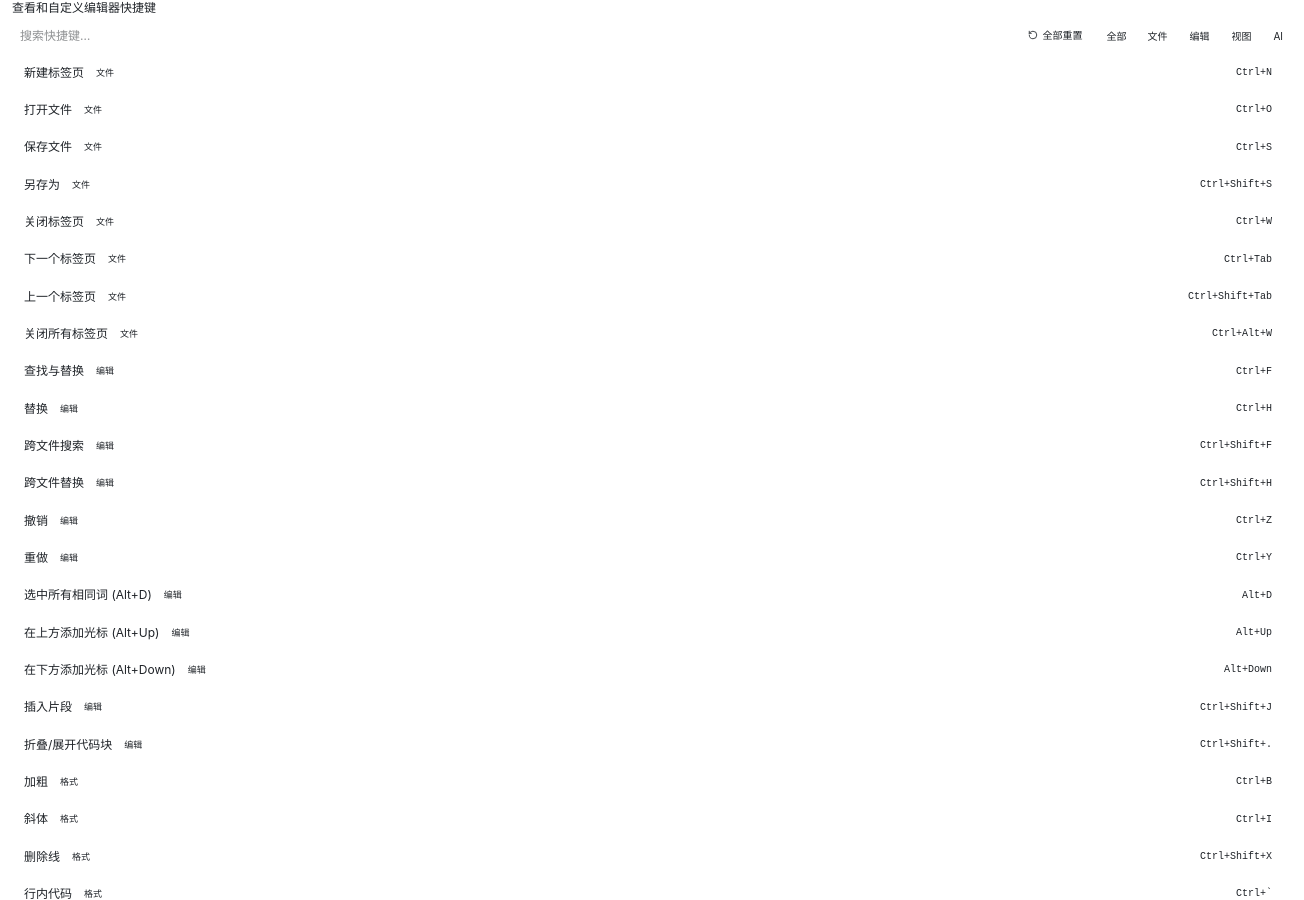
Test: ShortcutsTab › clicking a shortcut kbd puts it in editing state
Click the text "Ctrl+N".
click(1254, 72)  # box [1236,67,1272,78]
(page scrolled)
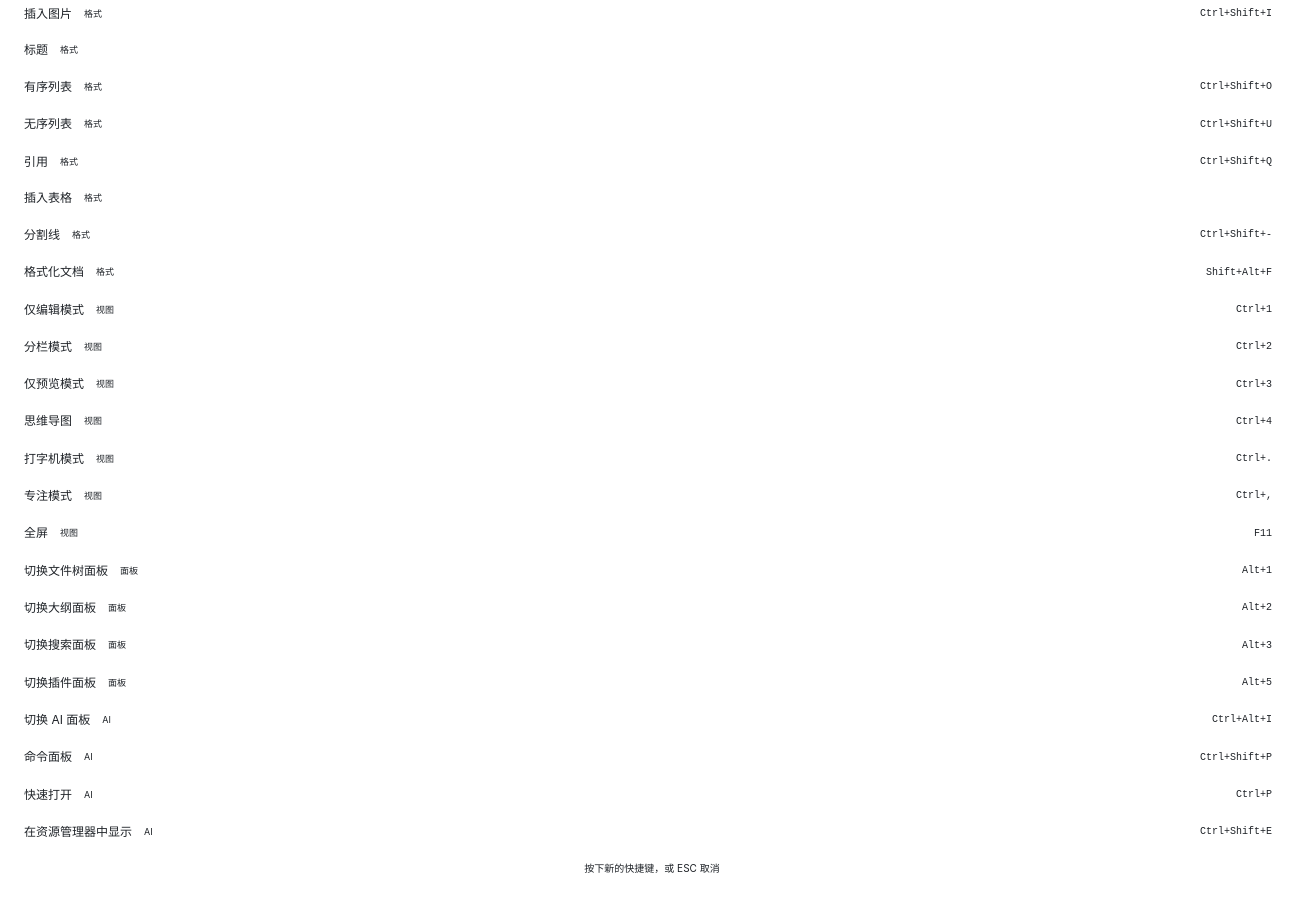
Expected: the text "按下新的快捷键，或 ESC 取消" is shown, [584,862,720,874]
